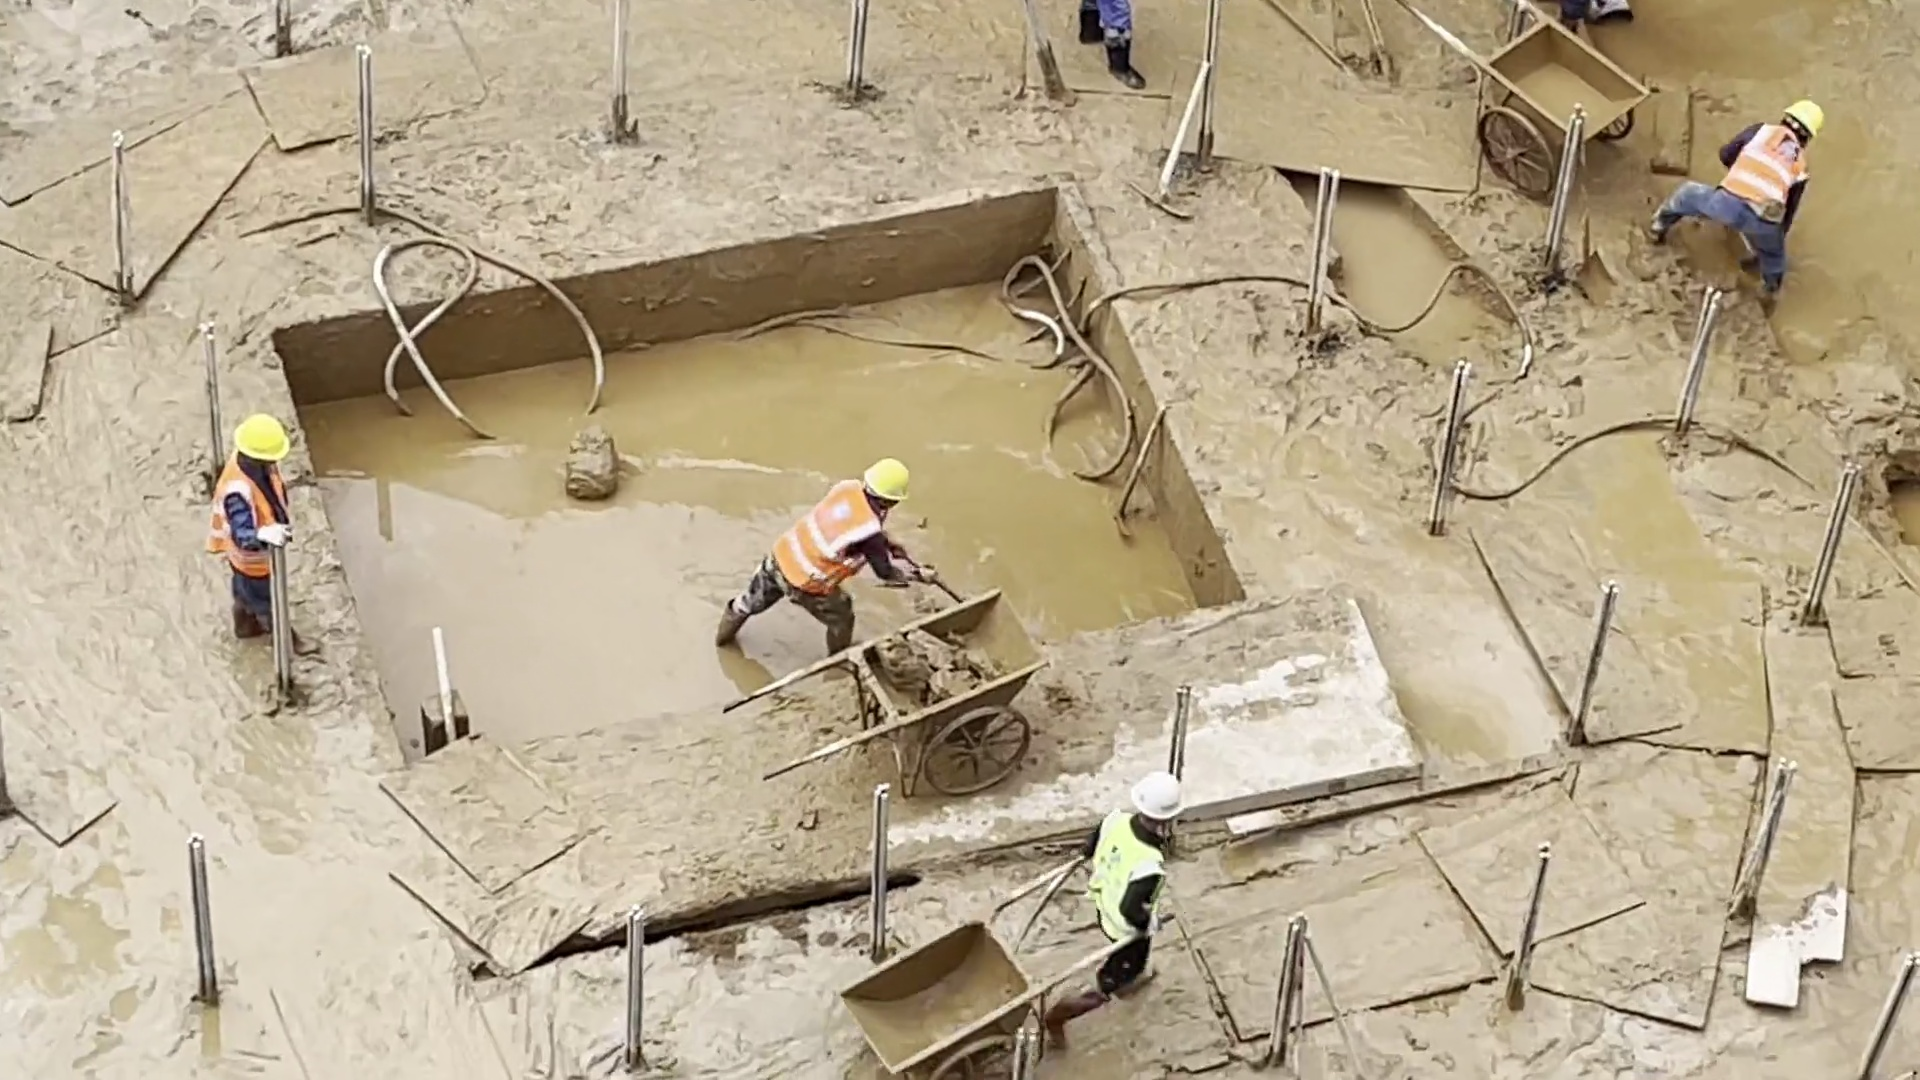helmet: (232, 413, 293, 466), (1131, 769, 1187, 821), (863, 458, 912, 505), (1783, 99, 1826, 135)
person: (704, 450, 938, 657), (1040, 771, 1186, 1050), (1646, 97, 1829, 305), (209, 408, 322, 654), (1075, 1, 1155, 88)
vest: (769, 481, 871, 596), (210, 454, 292, 578), (1718, 124, 1815, 225), (1097, 812, 1166, 948)
